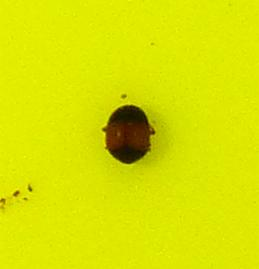Coleoptera: (100, 100, 159, 169)
